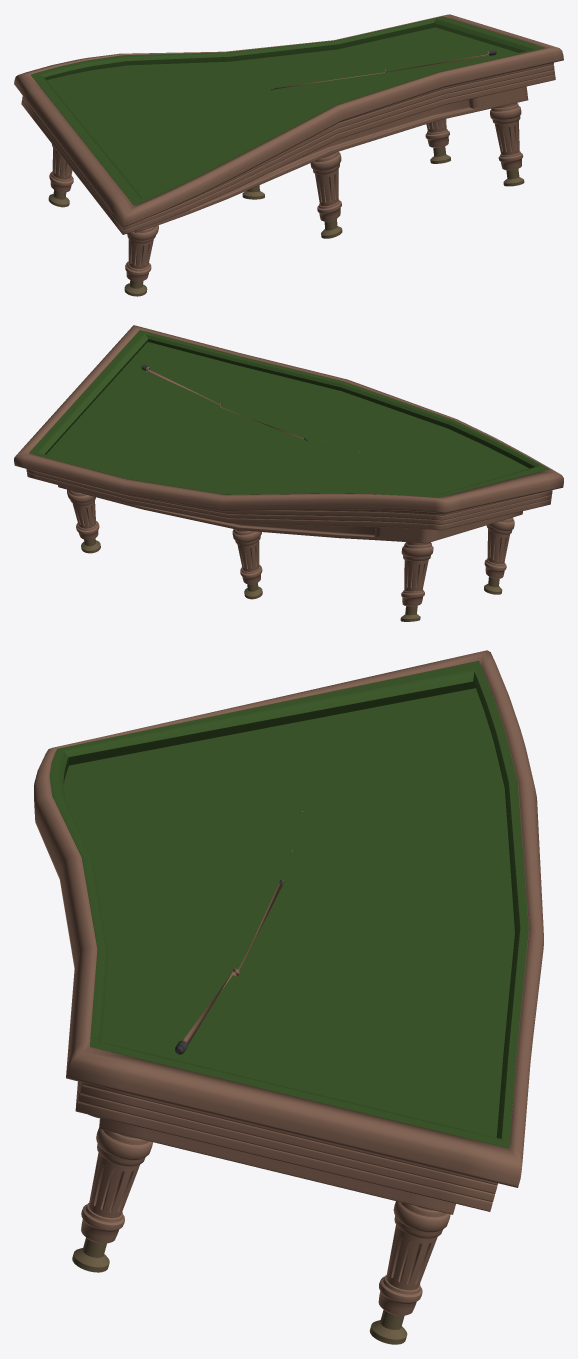
Rendered from tablee.fbx.
The picture shows the model from 3 angles, top to bottom: view 1: azimuth 30°, elevation 25°; view 2: azimuth 150°, elevation 25°; view 3: azimuth 270°, elevation 25°; orthographic projection. The views are drawn at different scales.
Parts seen in each view (by area): view 1: Default; view 2: Default; view 3: Default.
Boxes of the visible parts, x1,y1,x2,y2 form: Default: (14, 14, 563, 296); Default: (14, 325, 563, 621); Default: (34, 650, 543, 1344).
Size of the model in its own units: 18.72 by 6.6 by 9.57.
